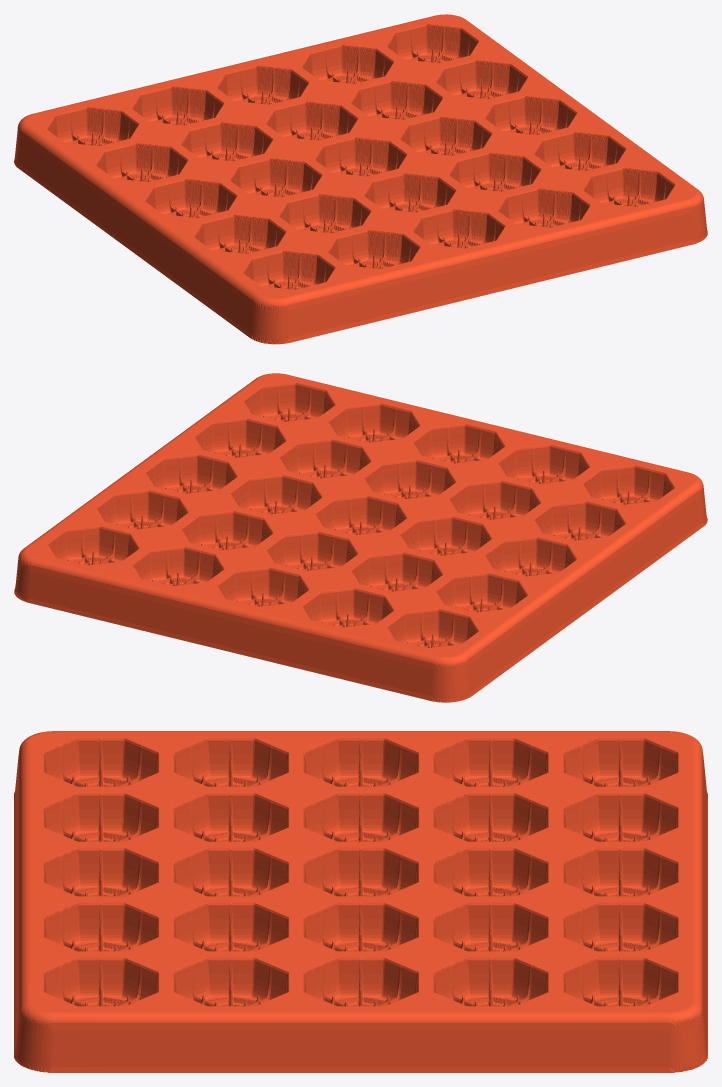
File: mold.glb
3 views of the same model, one above another, from view 1: azimuth 30°, elevation 25°; view 2: azimuth 150°, elevation 25°; view 3: azimuth 270°, elevation 25° (orthographic). The views are drawn at different scales.
Parts seen in each view (by area): view 1: geometry_0; view 2: geometry_0; view 3: geometry_0.
Part boxes in pixels (<box>): geometry_0: <box>14,14,707,344</box>; geometry_0: <box>14,373,707,702</box>; geometry_0: <box>14,731,707,1072</box>.
Size of the model in its own units: 0.1584 by 0.0136 by 0.1584.
